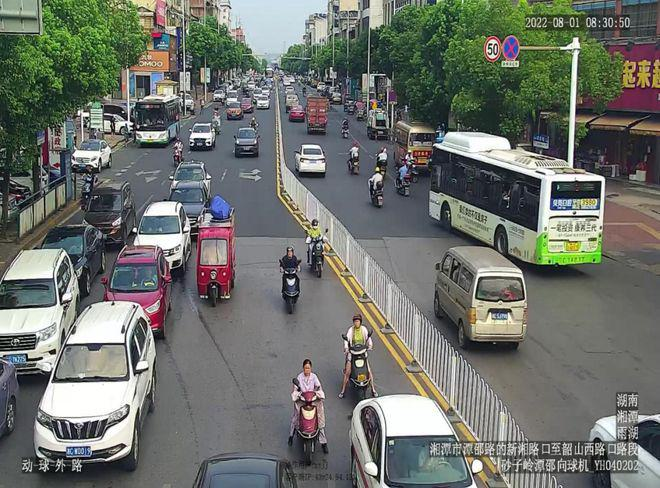bus: (432, 128, 573, 266), (389, 117, 443, 178), (137, 93, 188, 151), (73, 134, 113, 168)
car: (49, 302, 159, 474), (428, 240, 538, 345), (4, 239, 84, 371), (344, 404, 467, 486), (110, 238, 172, 323), (137, 196, 193, 286), (79, 181, 134, 244), (165, 178, 213, 237), (293, 144, 340, 182), (167, 157, 210, 197), (236, 123, 265, 164), (186, 120, 223, 152), (229, 101, 251, 125), (284, 90, 300, 111), (252, 91, 267, 107), (243, 95, 256, 113), (290, 104, 300, 117)
motorbike: (335, 311, 377, 404), (269, 362, 319, 426), (299, 220, 327, 286), (274, 245, 299, 313), (168, 136, 188, 179)
